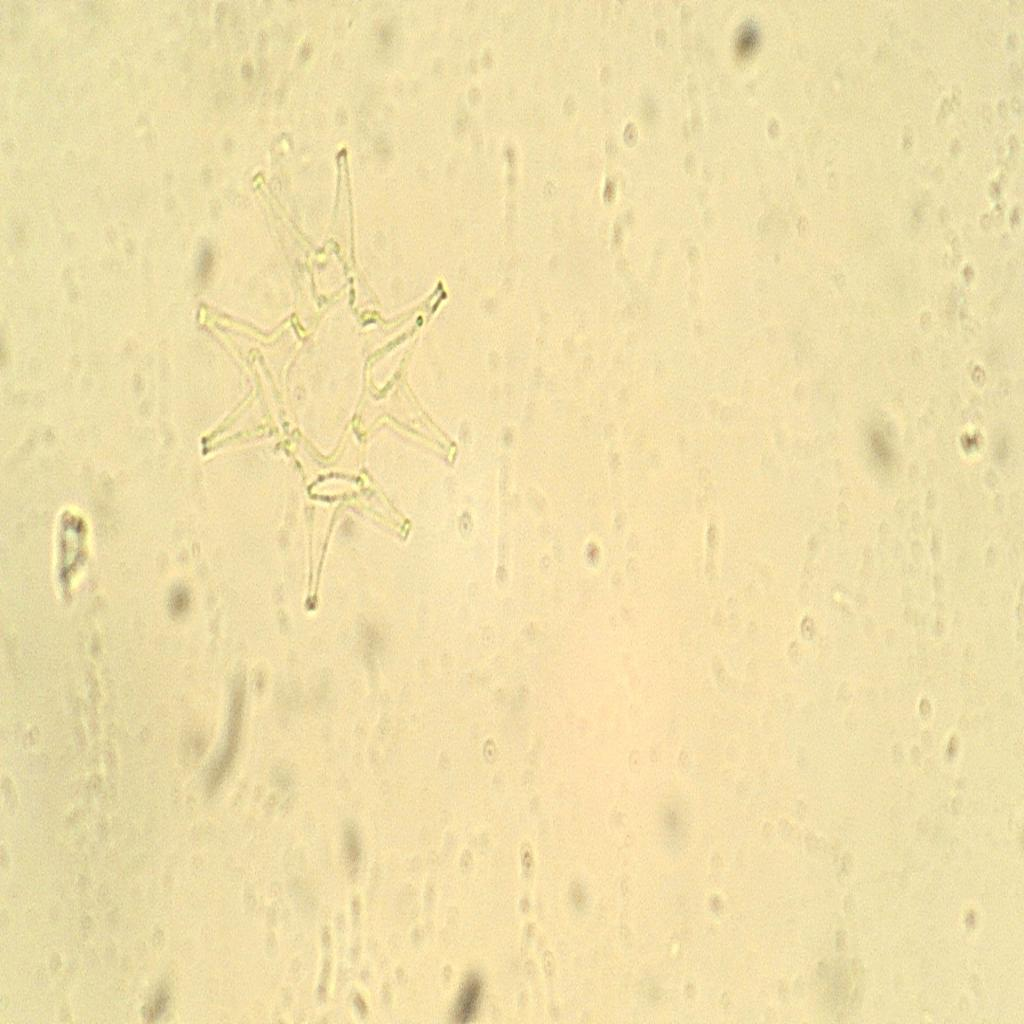Pediastrum_75TH: (185, 121, 477, 634)
